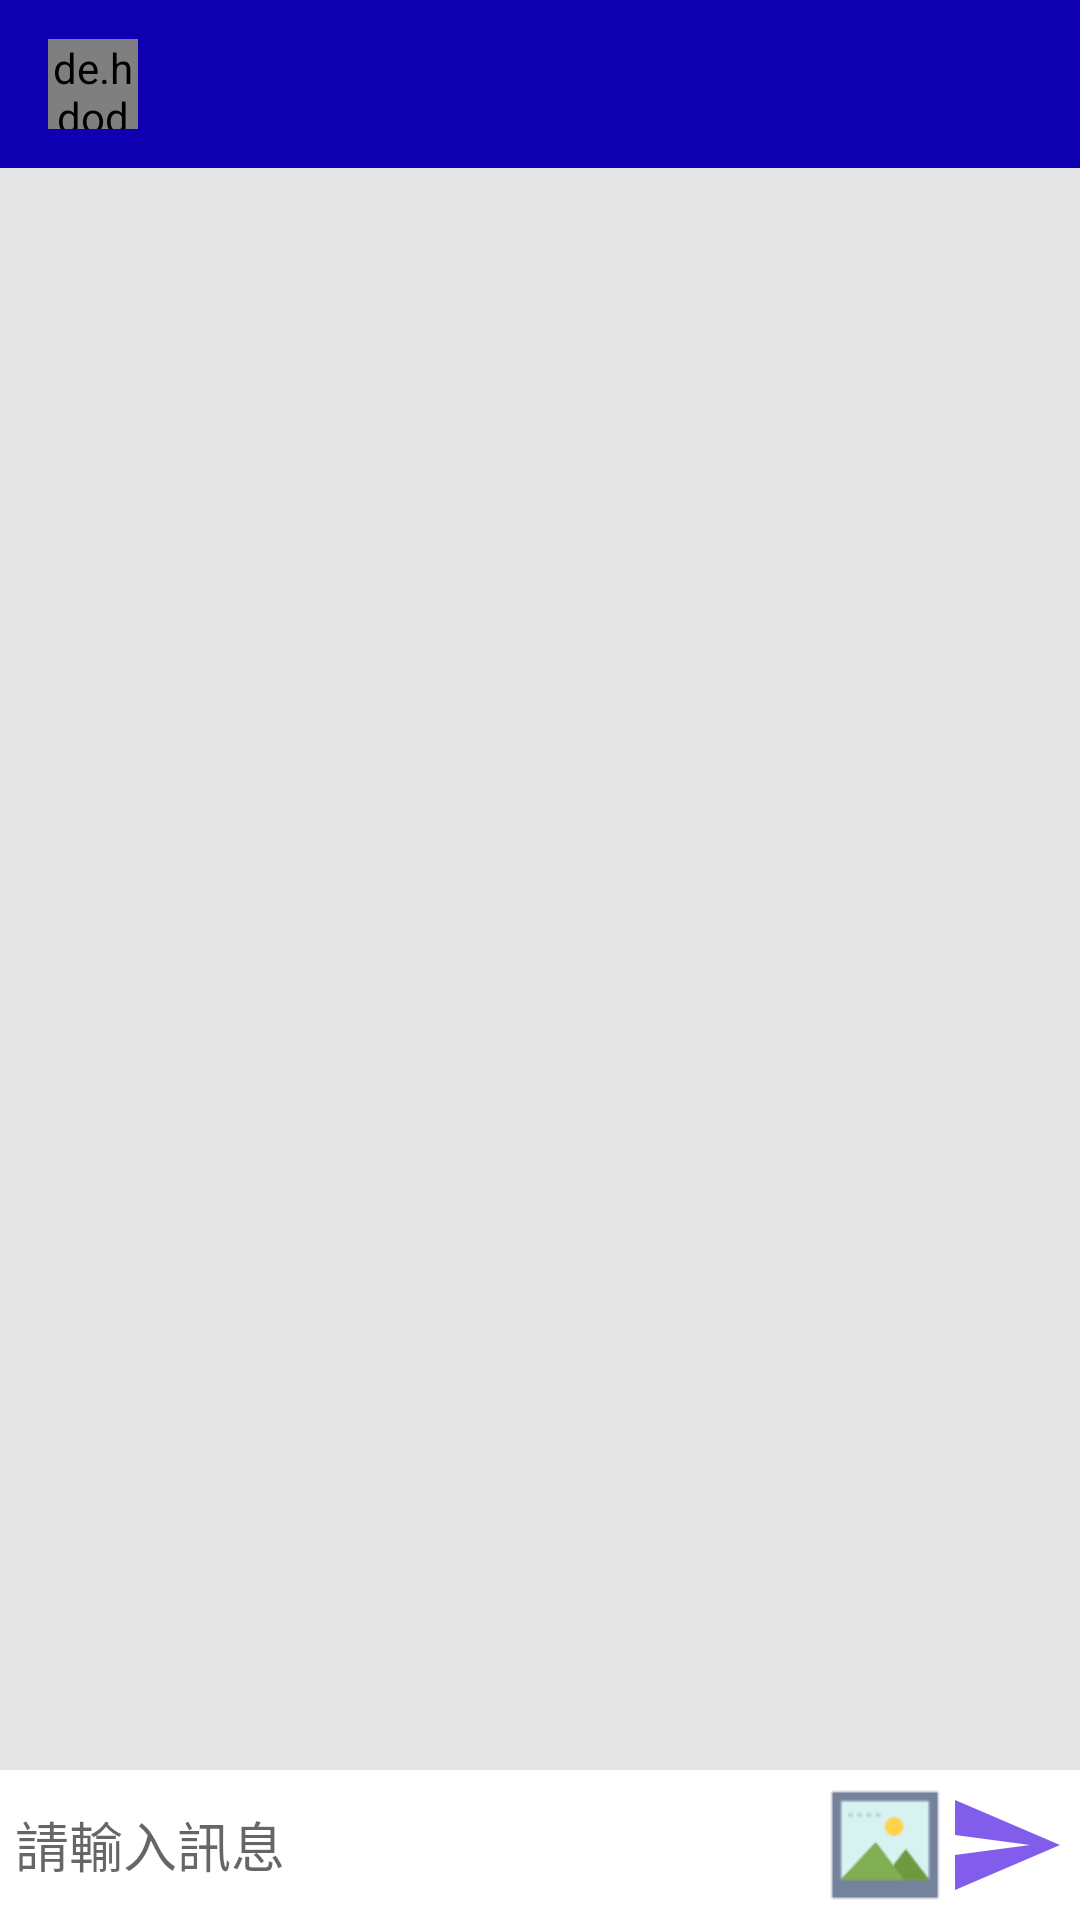

Named icons in this screenshot (1080 × 1920) and their centers, [x,y]:
send picture: [885,1845]
